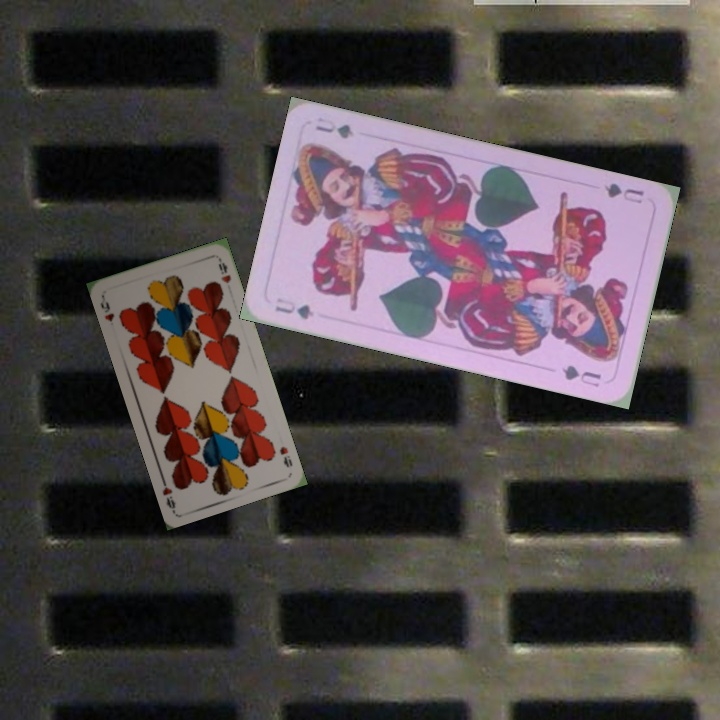GU: (271, 293, 317, 322), (600, 179, 647, 207)
H9: (96, 293, 117, 324), (275, 442, 295, 470)
